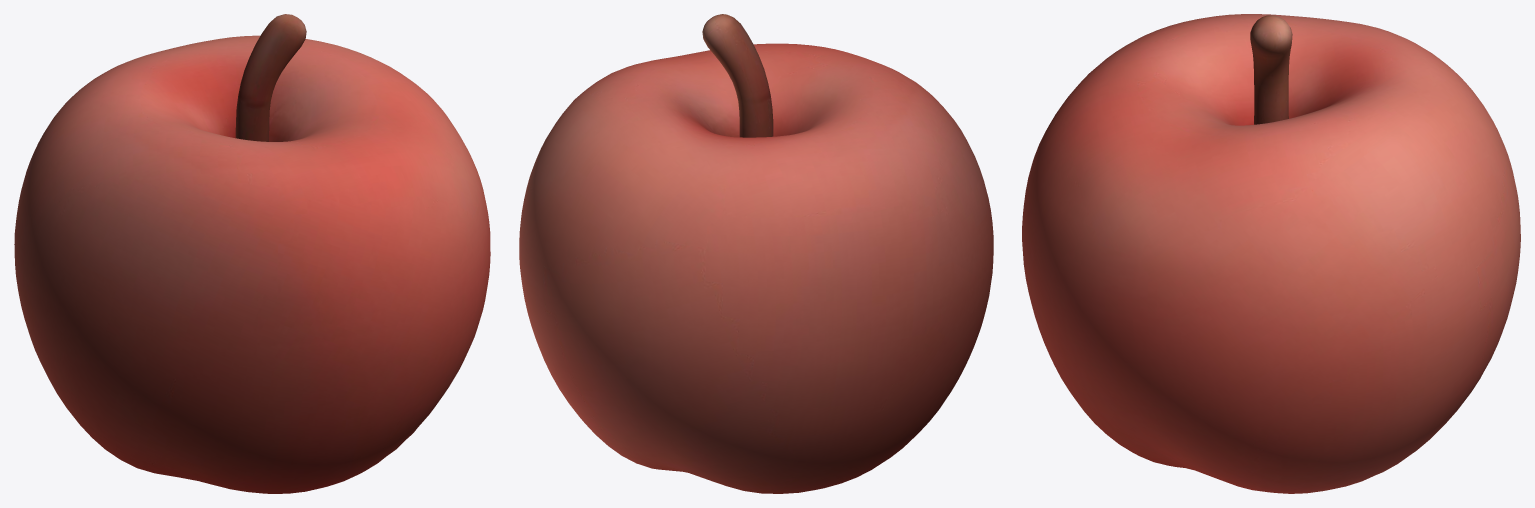
File: apple.glb
The picture shows the model from 3 angles, left to right: view 1: azimuth 30°, elevation 25°; view 2: azimuth 150°, elevation 25°; view 3: azimuth 270°, elevation 25°; orthographic projection. The views are drawn at different scales.
Visible parts, largest first — view 1: tripo_node_42bee3b6; view 2: tripo_node_42bee3b6; view 3: tripo_node_42bee3b6.
Part boxes in pixels (bbox=[...]): tripo_node_42bee3b6: bbox=[14, 14, 490, 493]; tripo_node_42bee3b6: bbox=[519, 14, 993, 493]; tripo_node_42bee3b6: bbox=[1022, 14, 1520, 493].
Size of the model in its own units: 99.84 by 98.67 by 99.89.
1 material, 1 textured.
